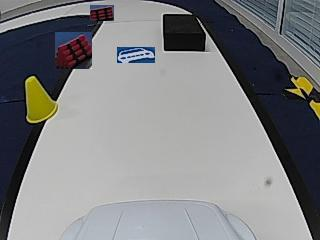block: (163, 14, 205, 51)
cone: (25, 76, 59, 123)
